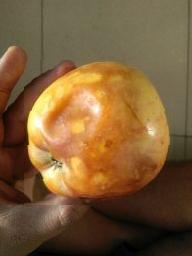Apple Rotten: (25, 61, 180, 206)
